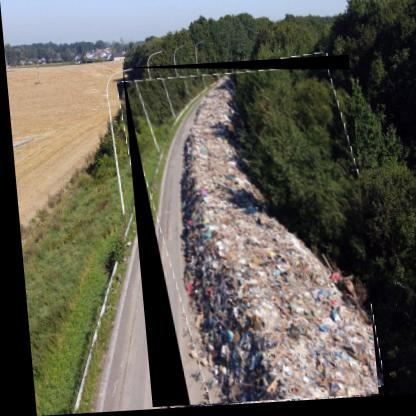Garbage: (122, 60, 373, 411)
